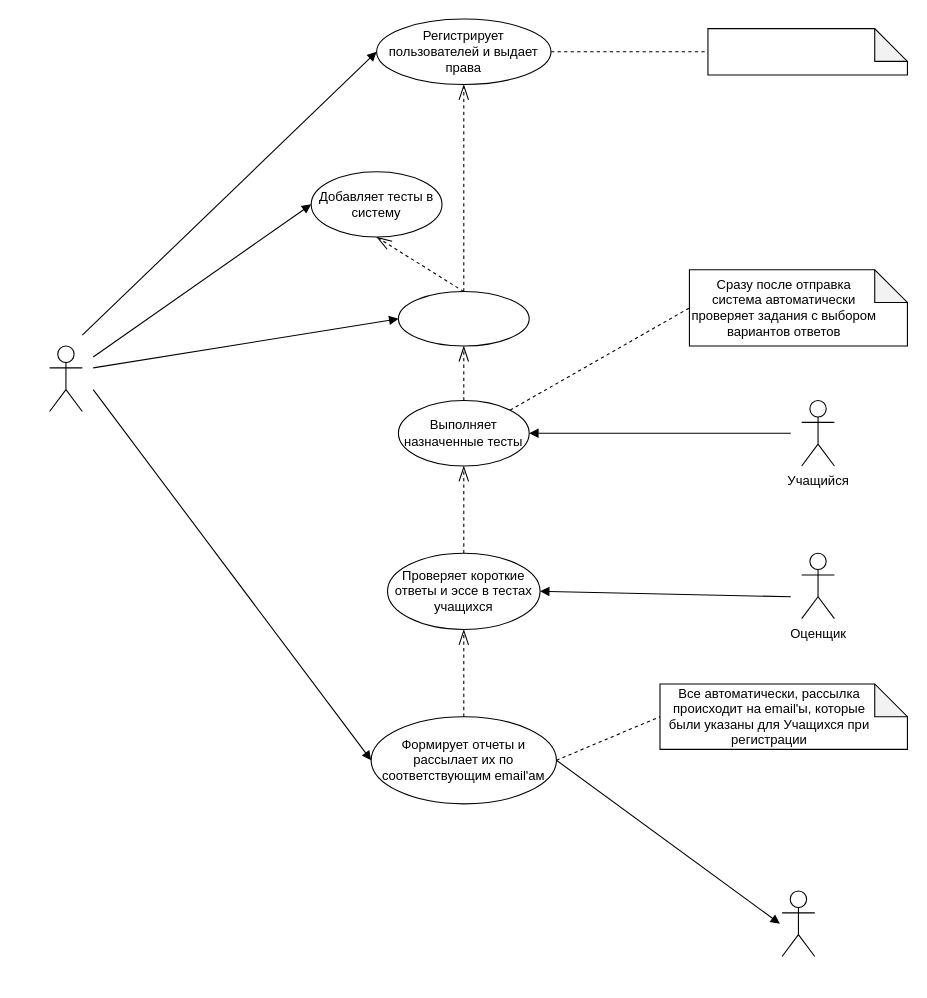
Image size: 927x998. Some labels were removed from this diagram. The centre of each missing label's shape, as x and y in pixels:
Администратор: [65,378]
Назначает тесты Учащимся: [463,318]
Регистрирует Учащихся, Оценщиков и других Администраторов: [807,51]
Родитель: [798,923]
